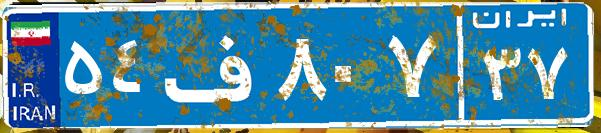0: (330, 28, 385, 110)
3: (475, 38, 525, 113)
4: (110, 28, 158, 105)
5: (57, 26, 110, 107)
7: (385, 28, 445, 110), (525, 38, 570, 115)
8: (273, 28, 330, 110)
ف: (158, 15, 273, 115)
